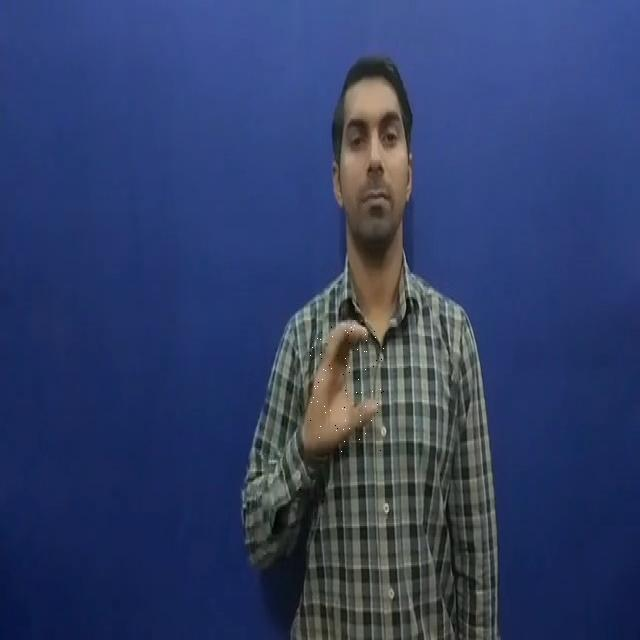pepper: (310, 324, 384, 454)
